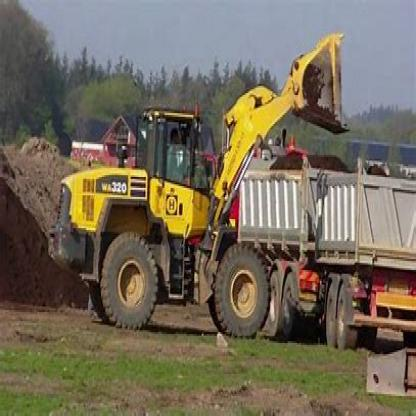bull_dozer/loader/grader: (47, 23, 345, 346)
